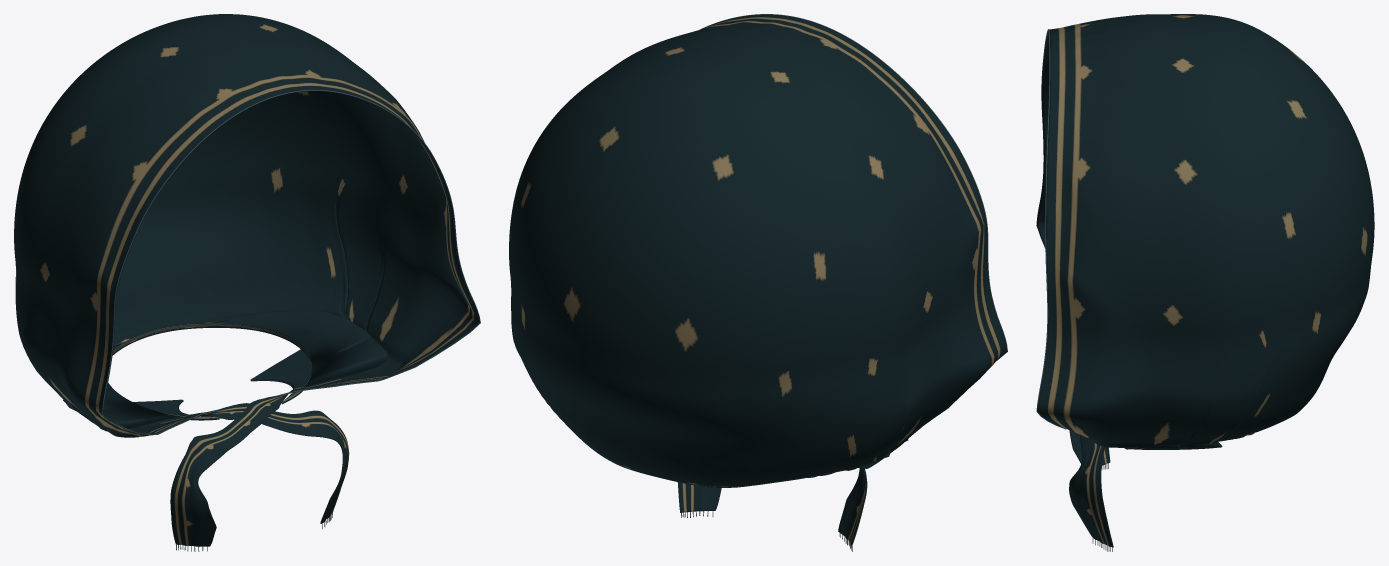
Rendered from Feminine-Feminine-curls-open-pashmina250-headgear-061ff4b7.glb.
3 views of the same model, side by side, from view 1: azimuth 30°, elevation 25°; view 2: azimuth 150°, elevation 25°; view 3: azimuth 270°, elevation 25° (orthographic). The views are drawn at different scales.
Parts seen in each view (by area): view 1: 226 headgear / Headwear / continuous woven pashmina239, 226 headgear / Headwear / face edge239; view 2: 226 headgear / Headwear / continuous woven pashmina239, 226 headgear / Headwear / face edge239; view 3: 226 headgear / Headwear / continuous woven pashmina239, 226 headgear / Headwear / face edge239.
Boxes of the visible parts, x1,y1,x2,y2 form: 226 headgear / Headwear / continuous woven pashmina239: (14,14,480,546); 226 headgear / Headwear / face edge239: (102,90,480,434); 226 headgear / Headwear / continuous woven pashmina239: (509,14,1007,545); 226 headgear / Headwear / face edge239: (700,14,1007,361); 226 headgear / Headwear / continuous woven pashmina239: (1036,14,1374,547); 226 headgear / Headwear / face edge239: (1036,29,1066,429).
Bounding box in the file's own units: 1.22 × 1.43 × 0.9101.
3 materials, 1 textured.
